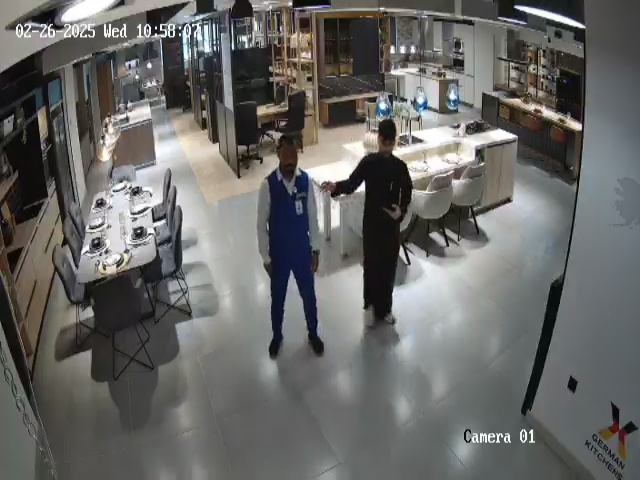employee: (256, 137, 325, 360)
male: (321, 119, 413, 327)
